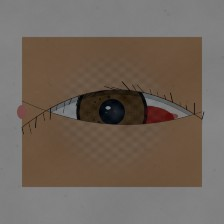hemorrhage_spot: (100, 86, 186, 155)
